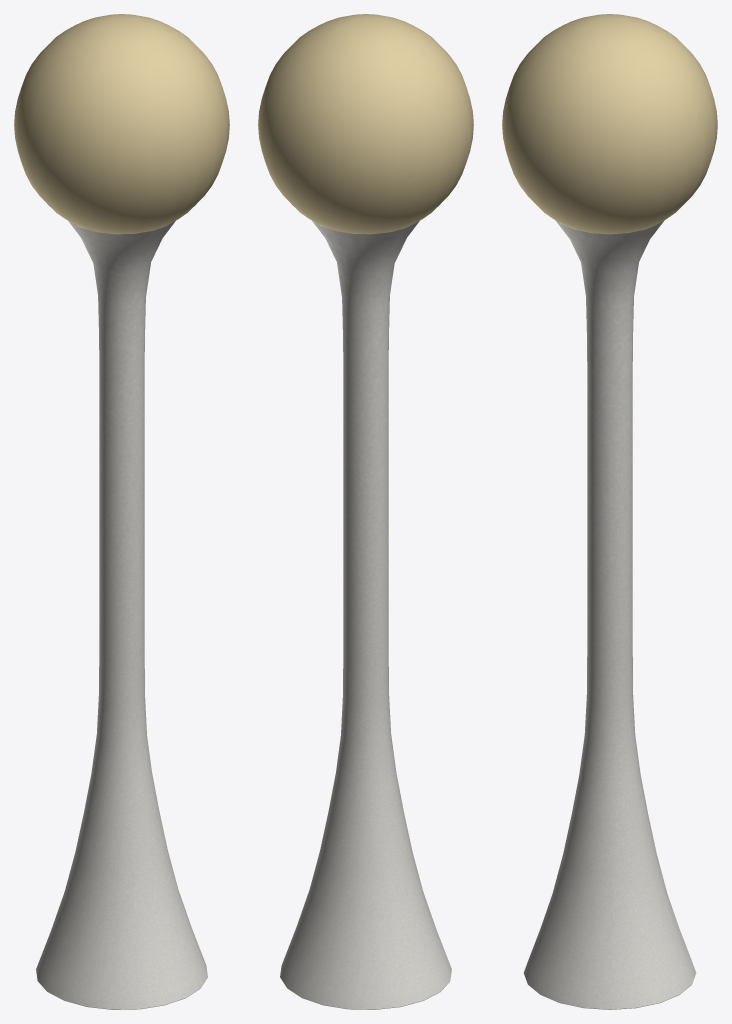
Rendered from Lamp_Post.glb.
3 views of the same model, side by side, from view 1: azimuth 30°, elevation 25°; view 2: azimuth 150°, elevation 25°; view 3: azimuth 270°, elevation 25° (orthographic).
Visible parts, largest first — view 1: lampHIGH; view 2: lampHIGH; view 3: lampHIGH.
Part boxes in pixels (x1,y1,x2,y2): lampHIGH: [14, 14, 229, 1009]; lampHIGH: [258, 14, 473, 1009]; lampHIGH: [502, 14, 717, 1009].
Bounding box in the file's own units: 2.43 × 11.82 × 2.43.
1 material, 1 textured.
